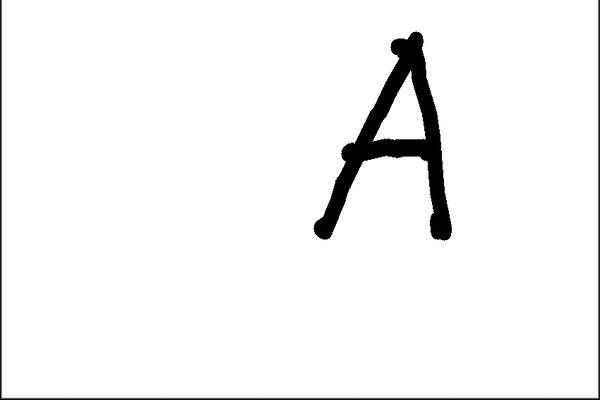A: (300, 22, 470, 253)
